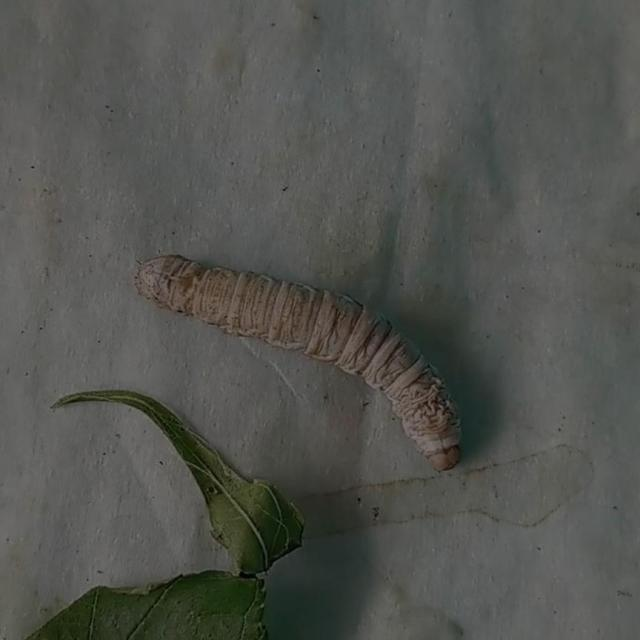Grasserie: (116, 224, 502, 497)
